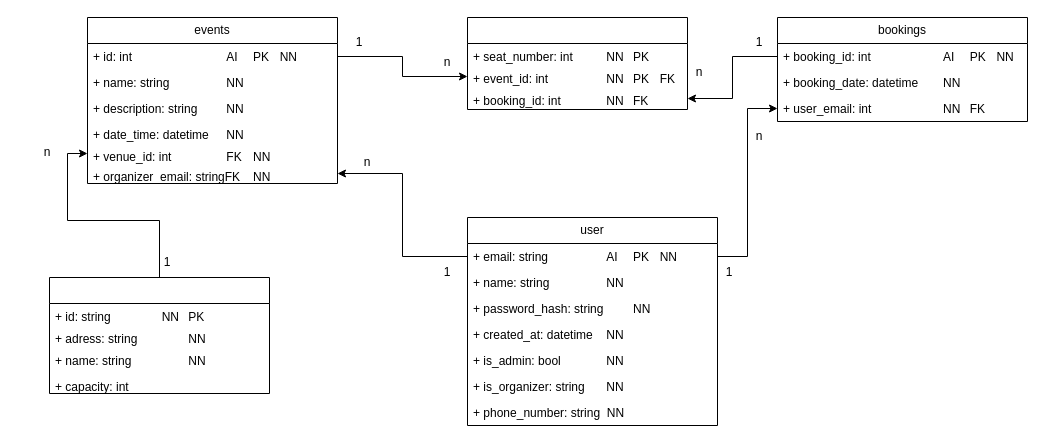
This 1045x446 diagram has some shape labels left out. Each missing label, with the box of its shape:
tickets: (466, 16, 688, 110)
venues: (48, 276, 270, 394)
